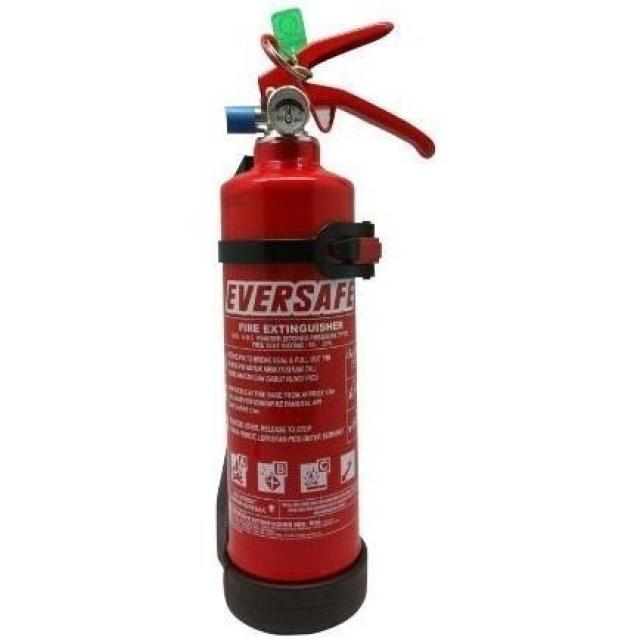fire_extinguisher: (209, 4, 436, 638)
